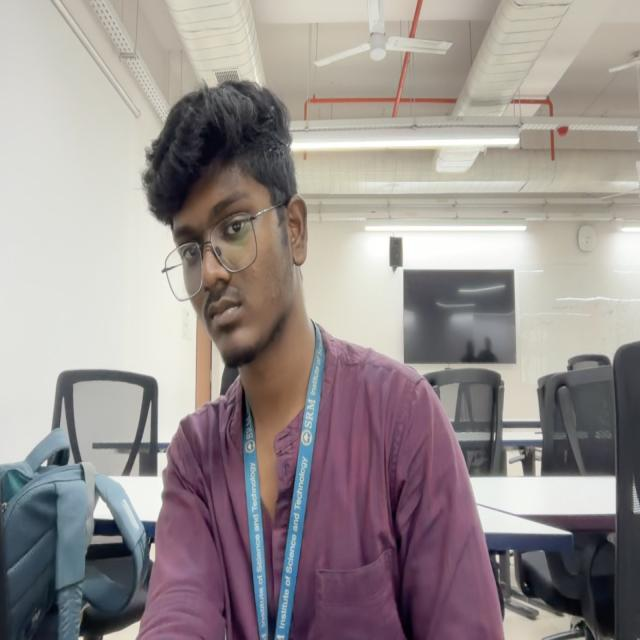ravindra: (143, 78, 309, 374)
